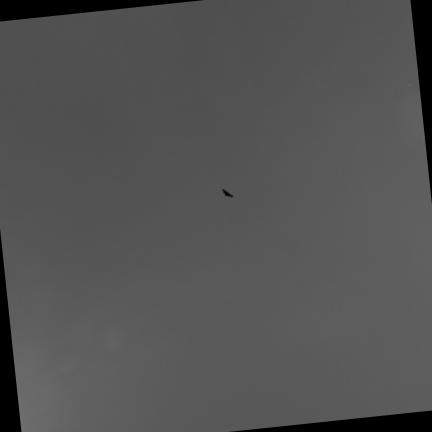Shahed: (222, 189, 233, 197)
